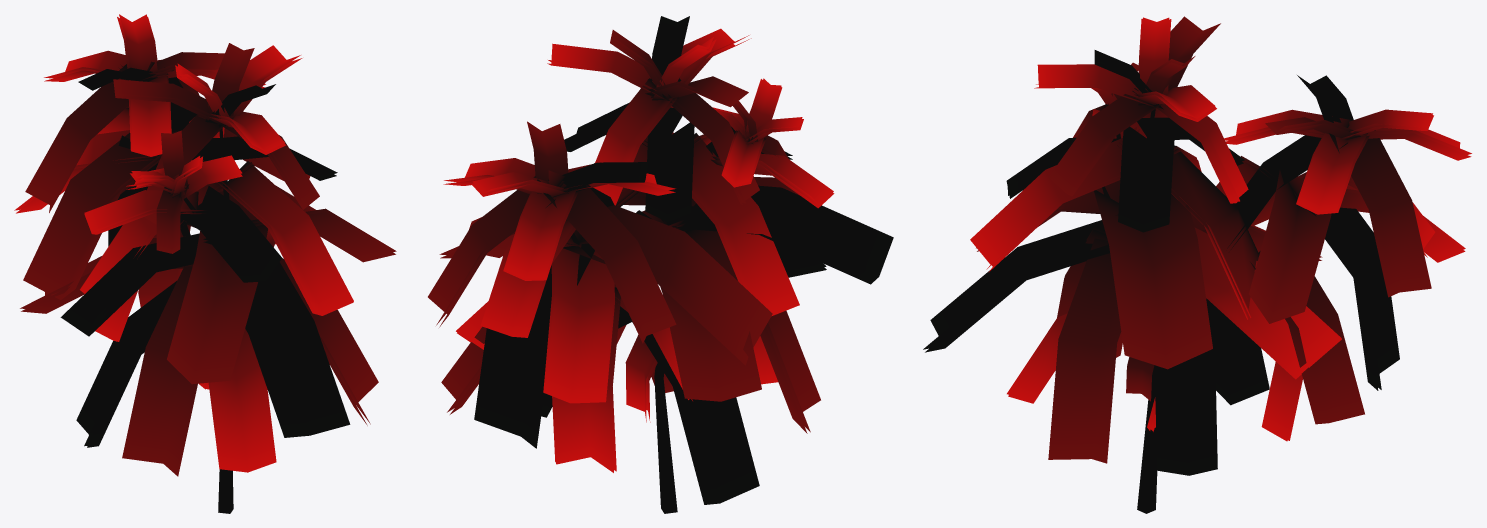
File: TropicalShrub04_high.FBX
3 renders of one model, left to right at view 1: azimuth 30°, elevation 25°; view 2: azimuth 150°, elevation 25°; view 3: azimuth 270°, elevation 25°, orthographic. The views are drawn at different scales.
Visible parts, largest first — view 1: TropicalShrub04_high; view 2: TropicalShrub04_high; view 3: TropicalShrub04_high.
Boxes of the visible parts, x1,y1,x2,y2 form: TropicalShrub04_high: (14, 14, 396, 513); TropicalShrub04_high: (428, 16, 893, 513); TropicalShrub04_high: (923, 16, 1471, 513).
Bounding box in the file's own units: 0.3455 × 0.4379 × 0.4612.
